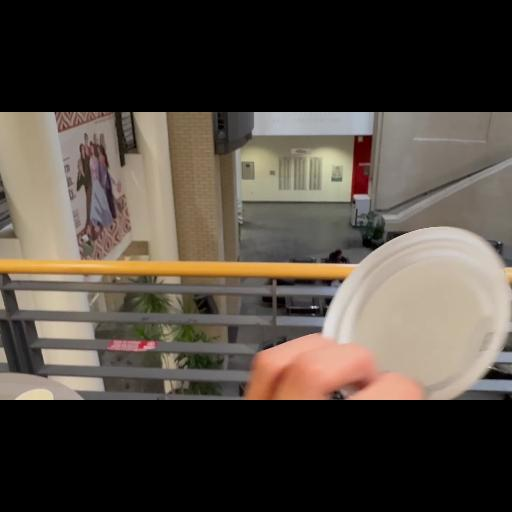lp_cup_lids: (323, 226, 509, 400)
